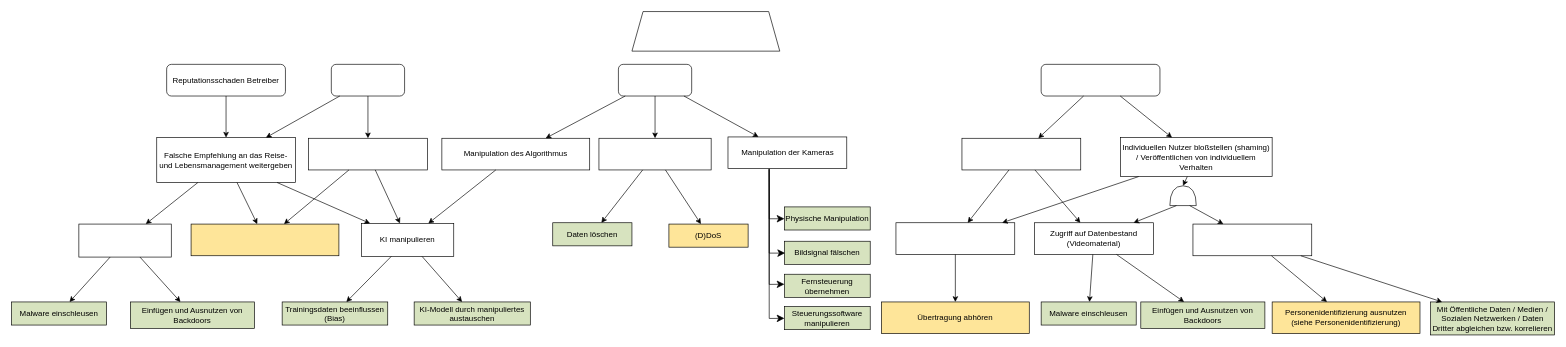
Image size: 1566x347. Some labels were removed from this diagram. The shapes that lost their labels are listed below. From the top down, each one's centre as x and y in pixels, then its label:
At (x=705, y=31): "Angriffsziel Emotions- und Absichtserkennung".
At (x=368, y=80): "Chaos schüren".
At (x=655, y=80): "Strafvereitelung".
At (x=1100, y=80): "Verletzung der Privatsphäre".
At (x=367, y=154): "Personal an falsche / unnötige Orte schicken".
At (x=654, y=154): "Verfügbarkeit des Datenbestands einschränken".
At (x=1021, y=154): "Individuellen Nutzer nachstellen".
At (x=124, y=240): "Datenbestand (Customer-Experience-Werte) manipulieren".
At (x=264, y=239): "Manipulation der Übertragung".
At (x=955, y=238): "Zugriff auf Live-Feed".
At (x=1252, y=239): "Individuum identifizieren".
